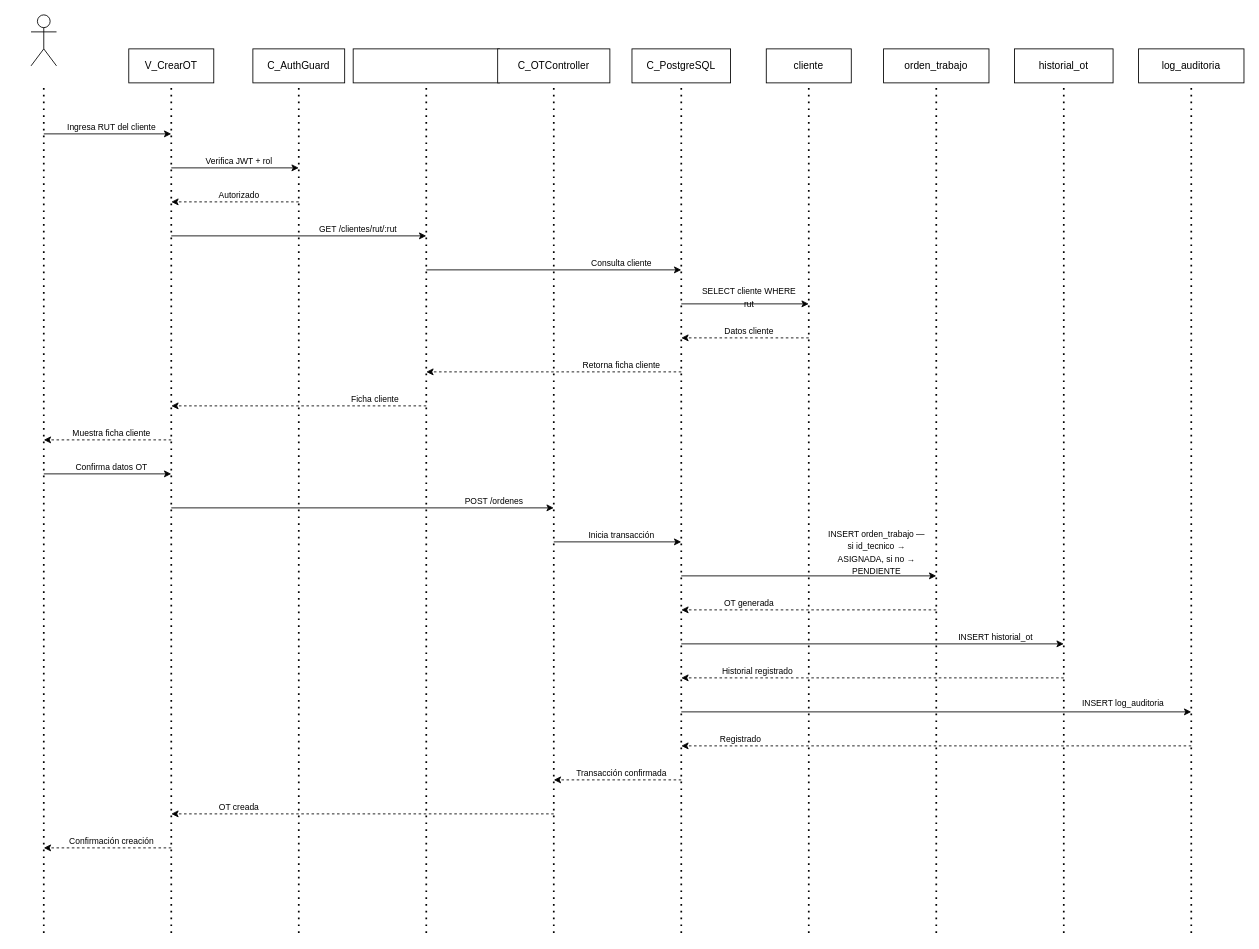
This 1259x949 diagram has some shape labels left out. The shapes that lost their labels are listed below. From the top down, each one's centre as x and y in pixels, then its label:
At [43,40]: "Jefe Técnico".
At [425,65]: "C_ClienteController".
